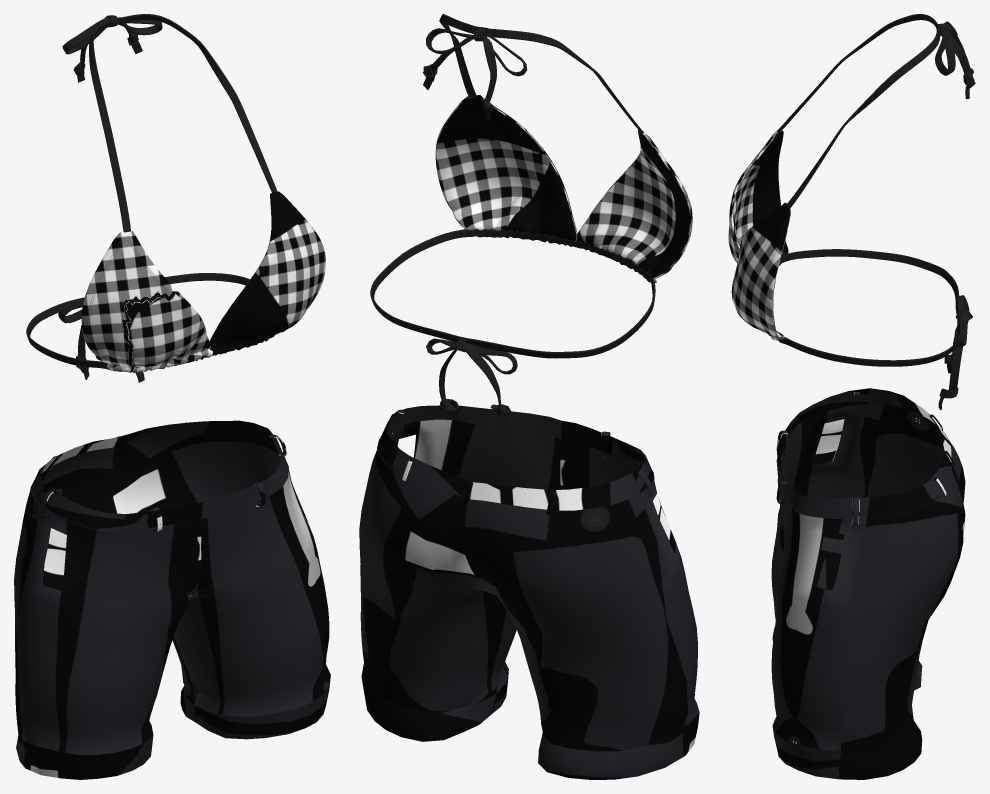
The model's file is bra_material_short.glb.
3 renders of one model, left to right at view 1: azimuth 30°, elevation 25°; view 2: azimuth 150°, elevation 25°; view 3: azimuth 270°, elevation 25°, orthographic. The views are drawn at different scales.
Visible parts, largest first — view 1: all_two, all; view 2: all_two, all; view 3: all_two, all.
Boxes of the visible parts, bbox=[...] form: all_two: bbox=[14, 420, 330, 779]; all: bbox=[26, 14, 325, 382]; all_two: bbox=[359, 404, 699, 779]; all: bbox=[370, 14, 692, 424]; all_two: bbox=[771, 388, 965, 779]; all: bbox=[728, 14, 975, 409].
Bounding box in the file's own units: 0.316 × 0.6925 × 0.2257.
Materials: 2 (2 with a texture image).
